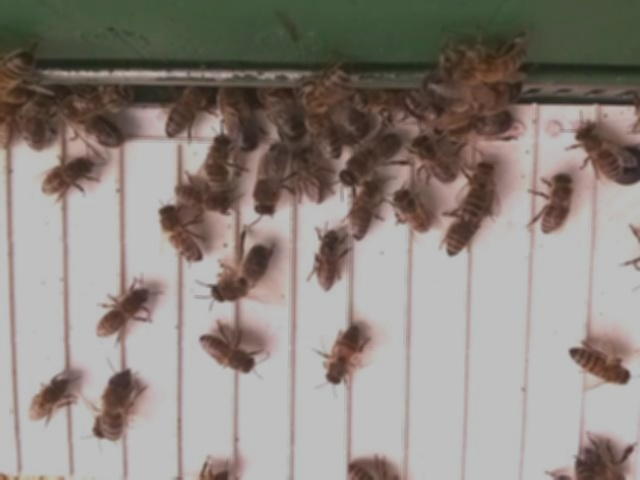Drone: (49, 88, 126, 152), (206, 242, 273, 306), (337, 130, 403, 190), (252, 138, 291, 220), (217, 85, 262, 156)
Worker: (93, 286, 151, 341), (573, 125, 622, 184), (564, 346, 632, 388), (157, 204, 203, 265), (323, 321, 363, 389), (194, 333, 257, 376), (536, 169, 574, 240), (289, 145, 329, 208), (458, 160, 495, 228), (37, 156, 94, 197), (410, 136, 456, 186), (346, 181, 382, 244), (169, 184, 235, 218), (100, 376, 132, 444), (22, 379, 68, 425), (391, 189, 433, 236), (203, 134, 233, 196), (442, 212, 478, 261), (314, 229, 339, 296)
